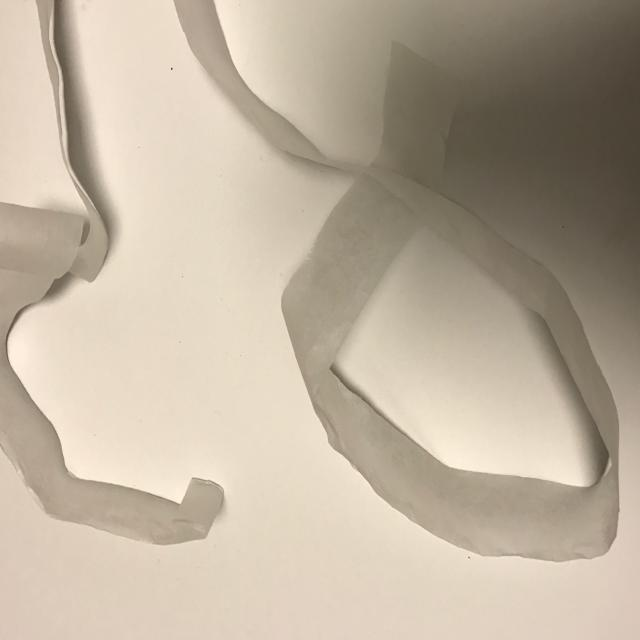Trash: (0, 0, 618, 584)
